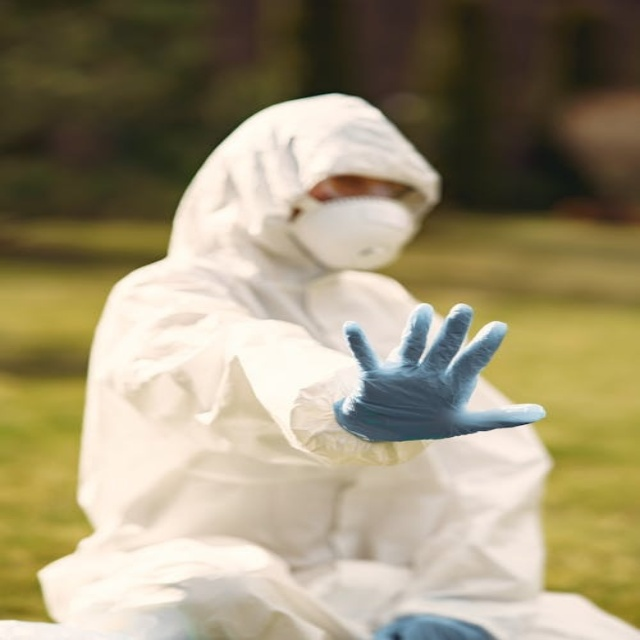Guantes: (323, 300, 554, 439)
Mascara: (291, 196, 418, 271)
